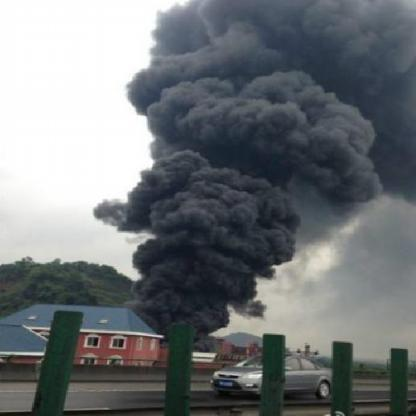smoke: (202, 3, 412, 172), (100, 178, 318, 245), (128, 6, 200, 174), (134, 248, 272, 334), (329, 172, 414, 217)
